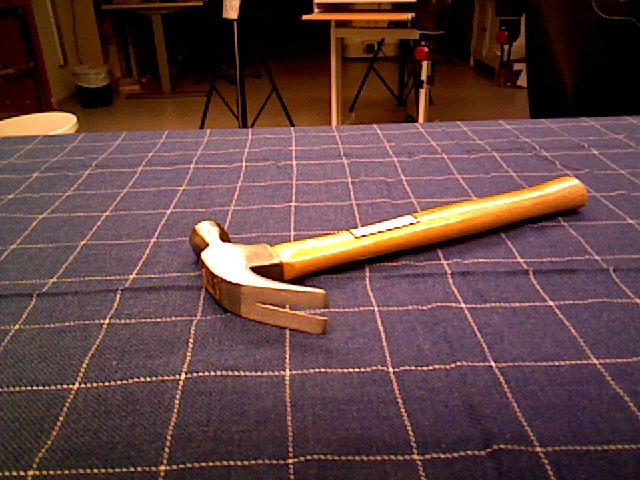hammer1: (189, 174, 590, 337)
